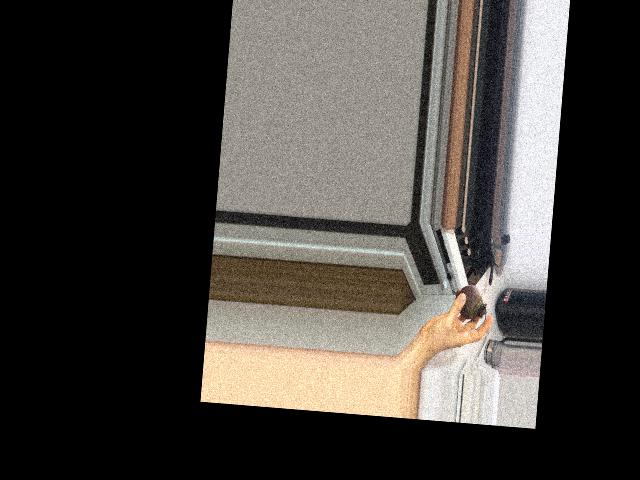beet: (447, 283, 488, 330)
